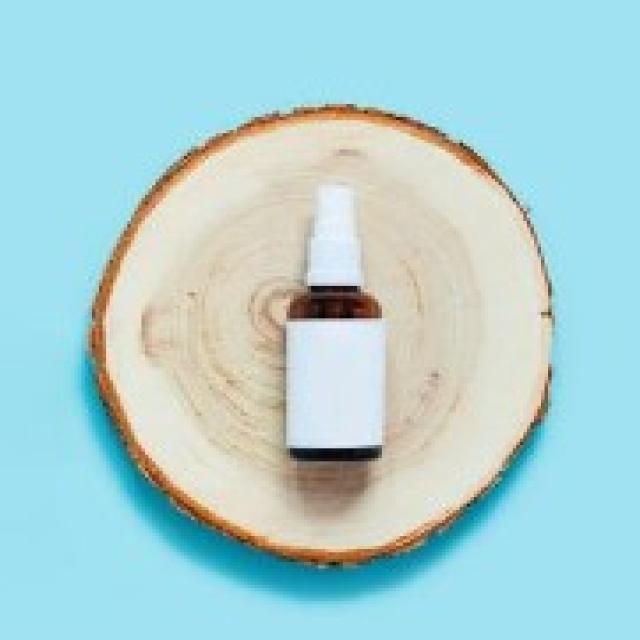electronic: (286, 178, 390, 465)
